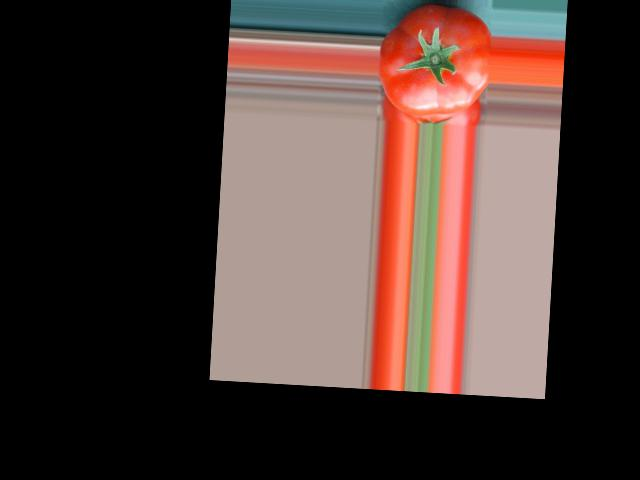tomato: (375, 2, 493, 119)
